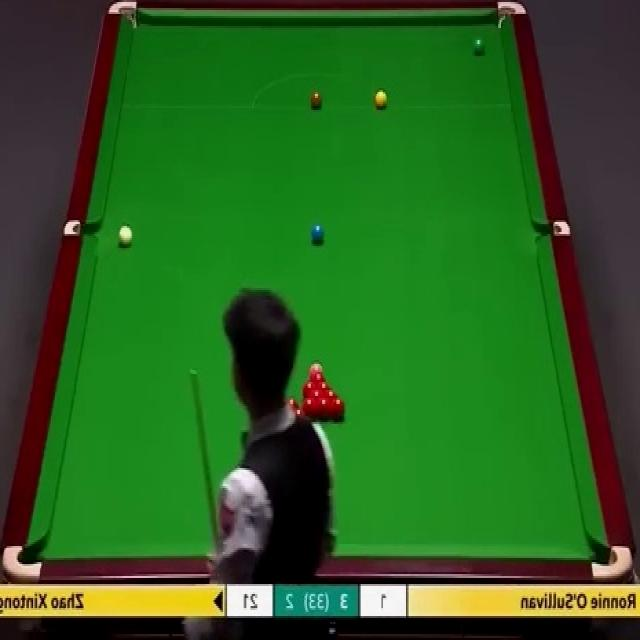blue-ball: (311, 223, 326, 246)
brown-ball: (310, 88, 323, 110)
green-ball: (472, 37, 486, 56)
pink-ball: (309, 360, 323, 376)
red-ball: (302, 397, 316, 421), (332, 398, 345, 421), (318, 396, 331, 419), (301, 380, 316, 396), (285, 395, 298, 411), (315, 379, 331, 390), (307, 388, 324, 398), (323, 387, 338, 397), (309, 373, 325, 382), (292, 406, 306, 416)
white-ball: (117, 222, 134, 249)
yellow-ball: (374, 88, 388, 110)
